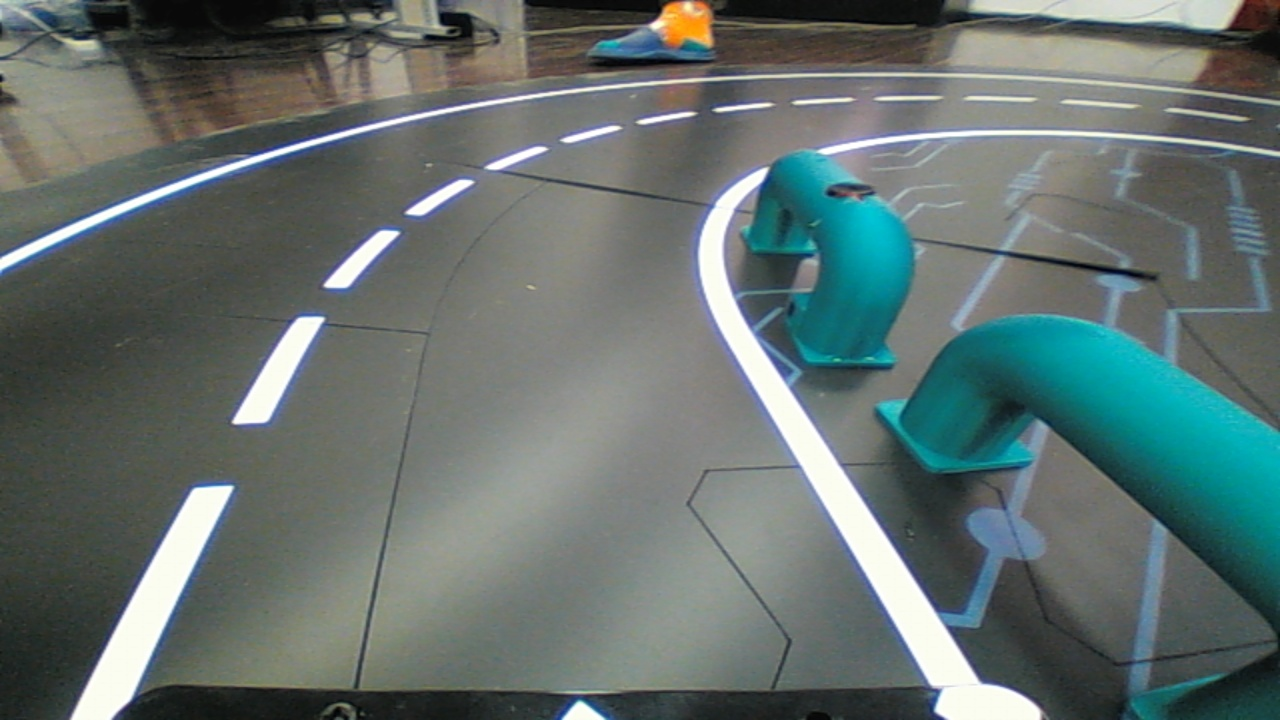No entry: (890, 312, 1269, 694)
Pedestrian crossing: (716, 122, 916, 384)
